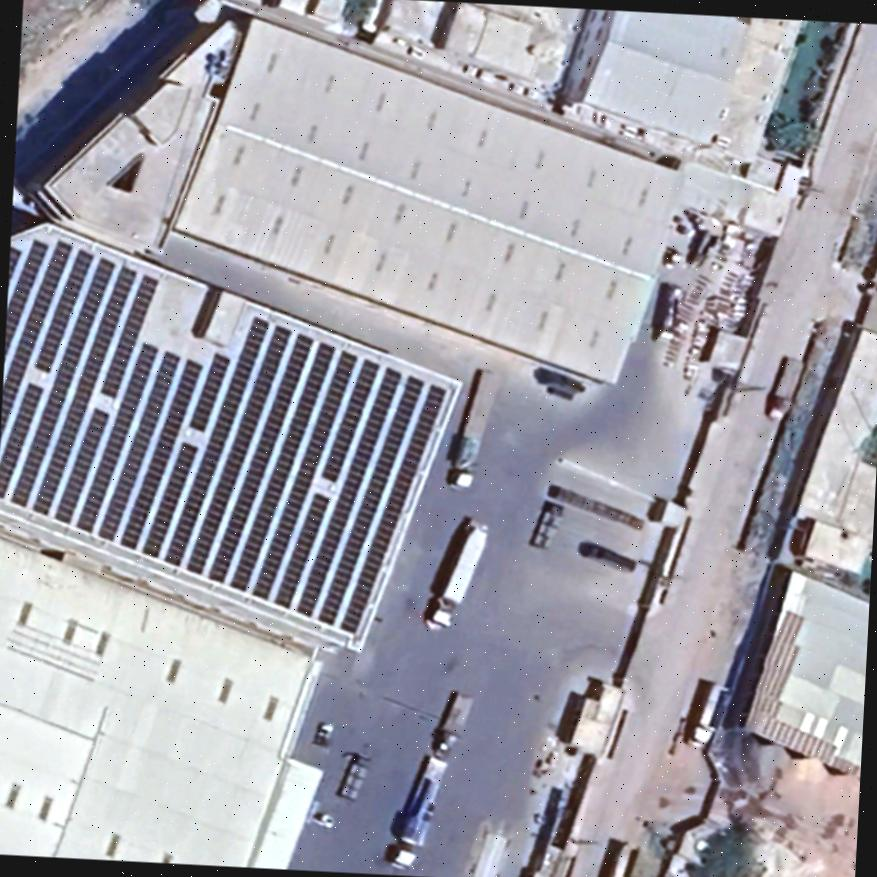Solarpanel: (0, 210, 457, 648)
